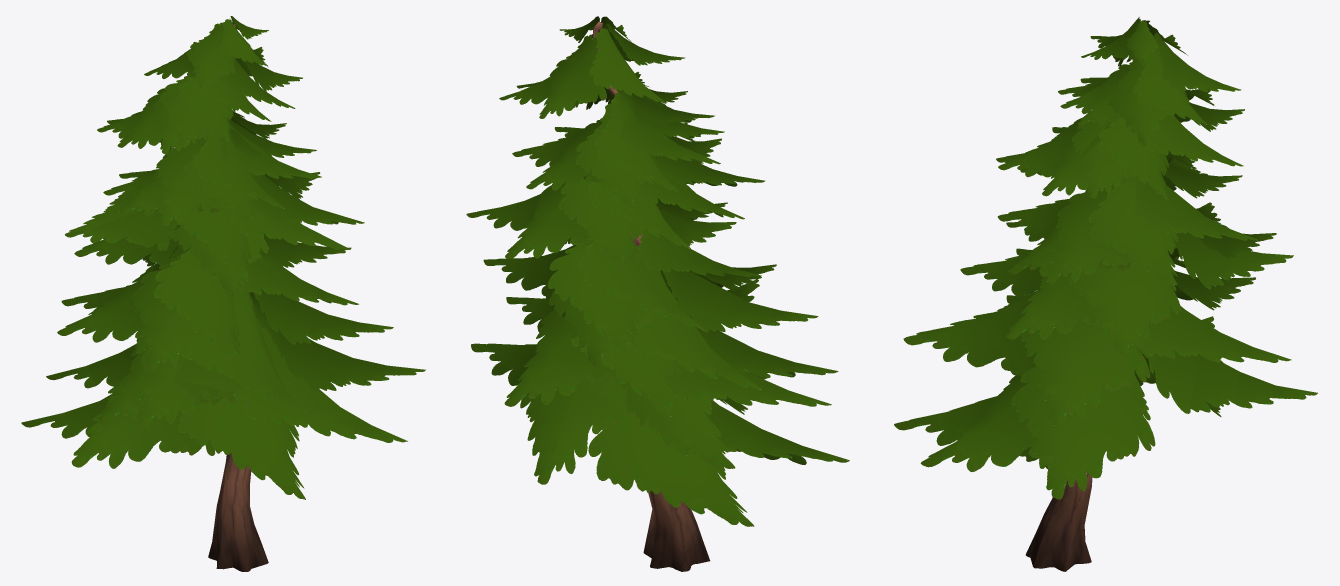
The model's file is pine-a.glb.
The picture shows the model from 3 angles, left to right: view 1: azimuth 30°, elevation 25°; view 2: azimuth 150°, elevation 25°; view 3: azimuth 270°, elevation 25°; orthographic projection. The views are drawn at different scales.
Parts seen in each view (by area): view 1: Pine_5; view 2: Pine_5; view 3: Pine_5.
Part boxes in pixels (bbox=[...]): Pine_5: bbox=[21, 16, 425, 571]; Pine_5: bbox=[466, 16, 849, 571]; Pine_5: bbox=[894, 17, 1317, 571].
Bounding box in the file's own units: 6.42 × 8.72 × 6.22.
Materials: 2 (2 with a texture image).
